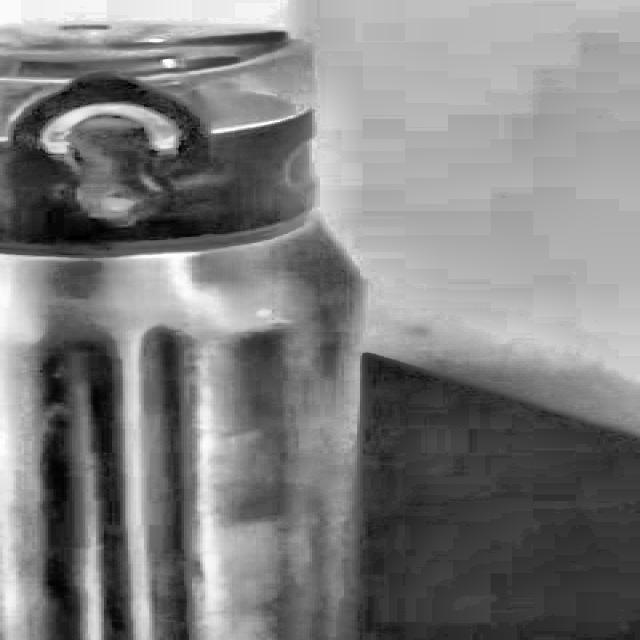bottle: (0, 21, 365, 640)
